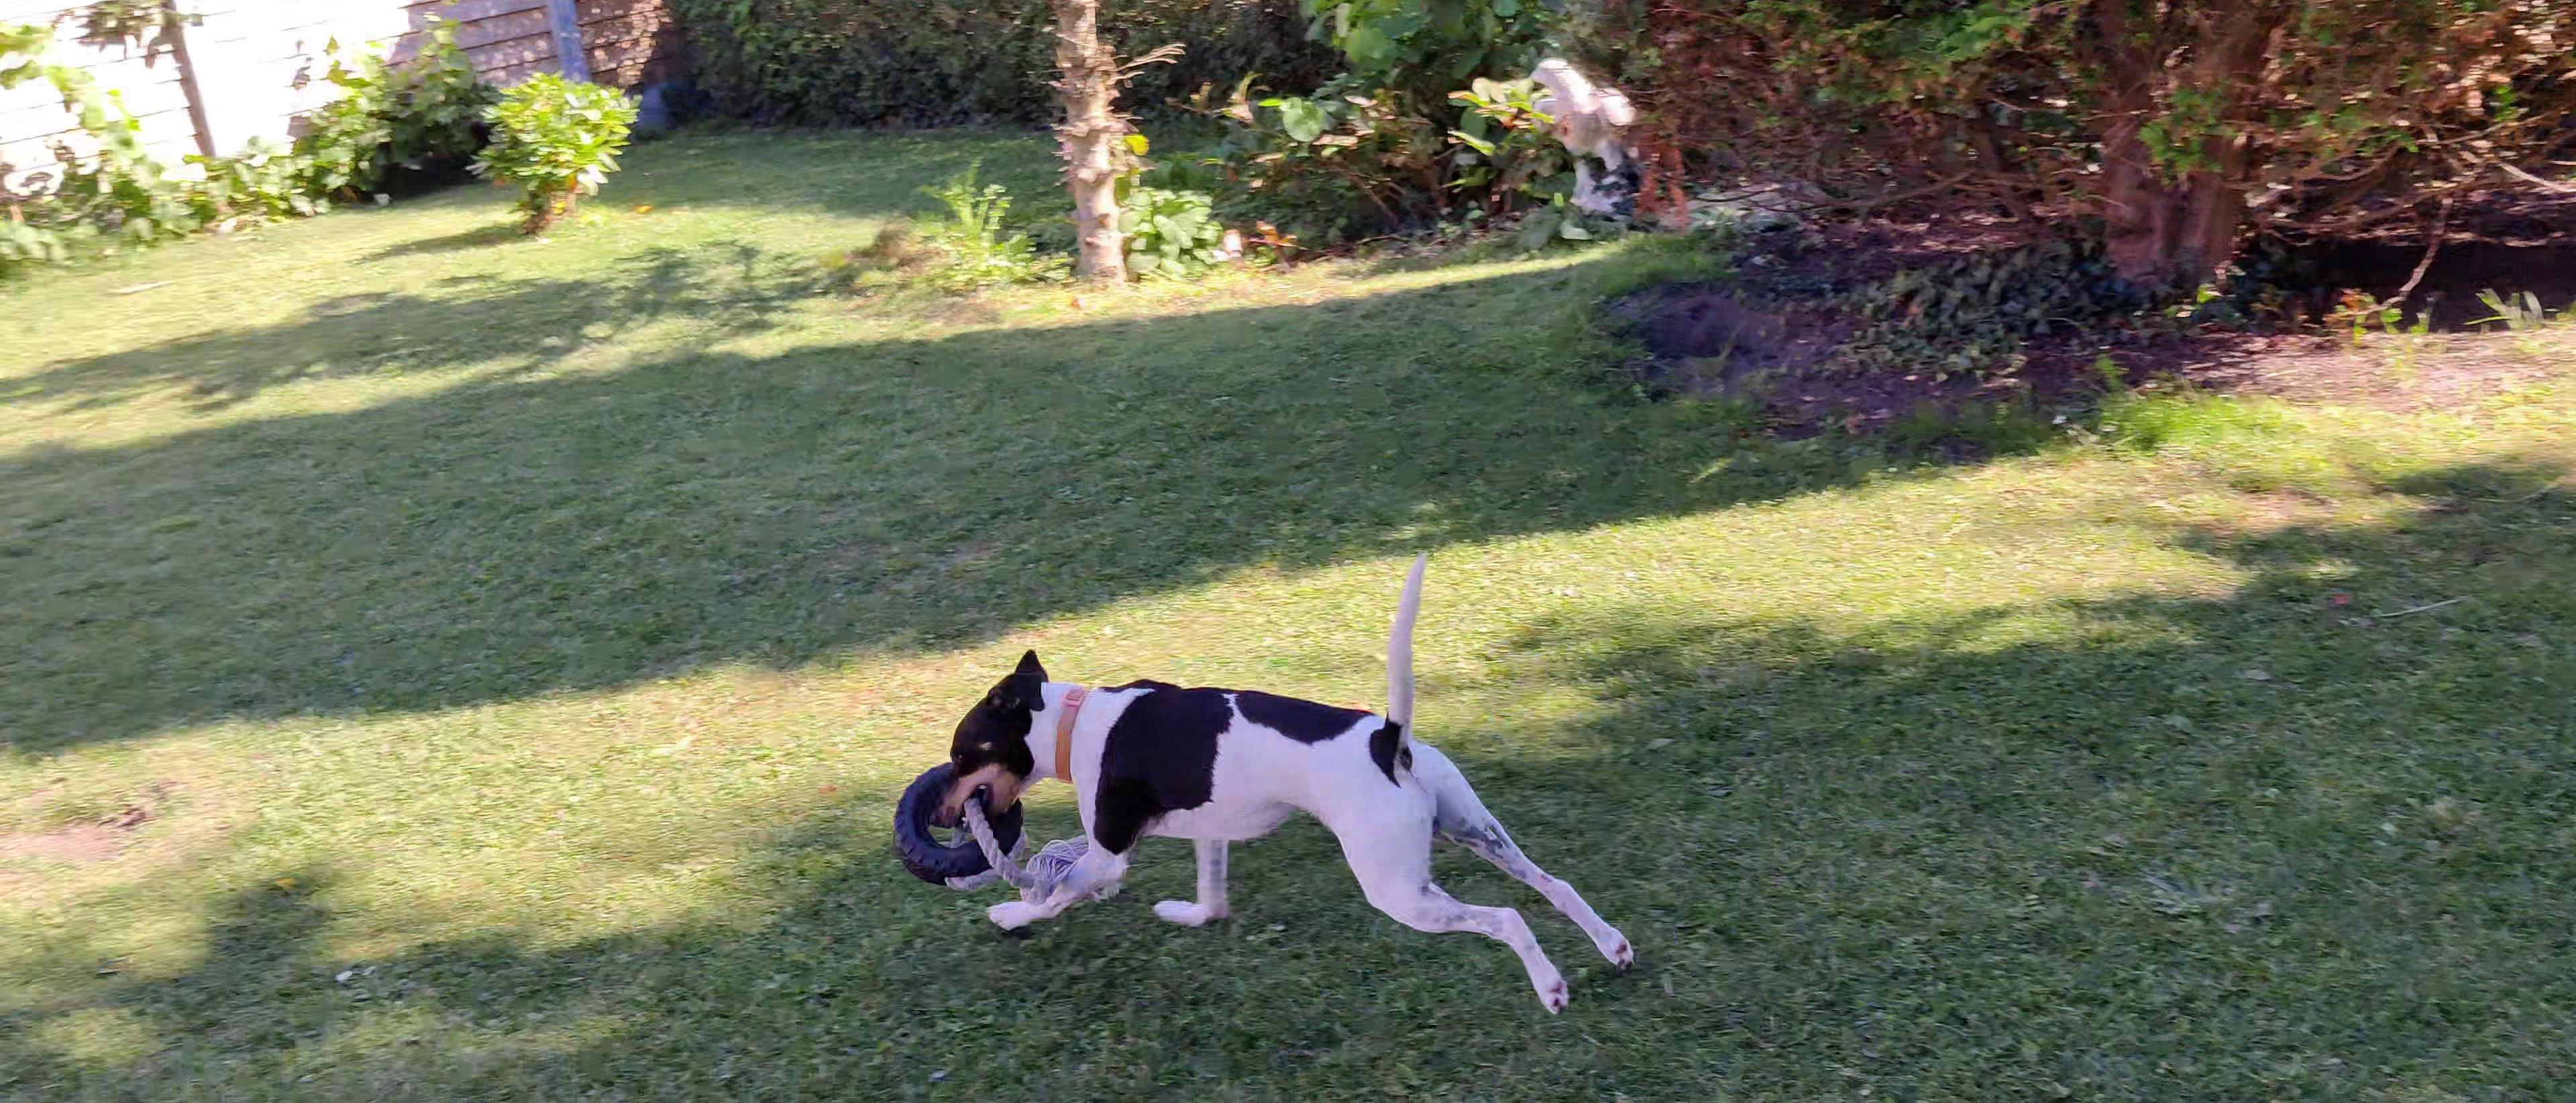Dog: (927, 542, 1638, 1018)
